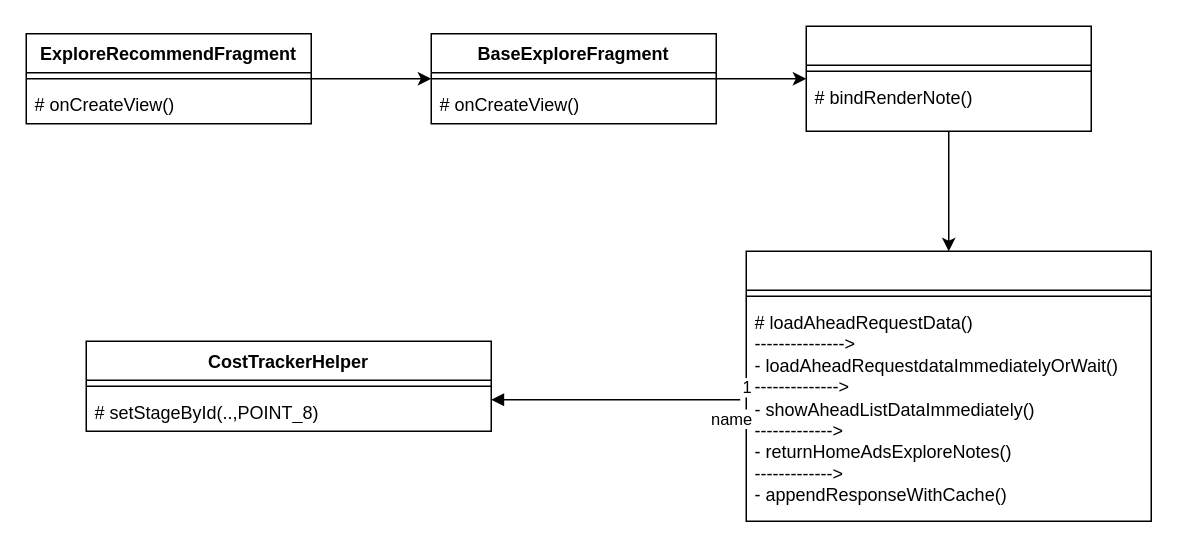
Image size: 1178x552. Some labels were removed from this diagram. The shapes that lost their labels are listed below. From the top down, each one's box as (x1, y1, x2, y2) in pixels, then its label:
(805, 25, 1091, 131): ExploreView
(745, 250, 1151, 521): ExplorePresenter
